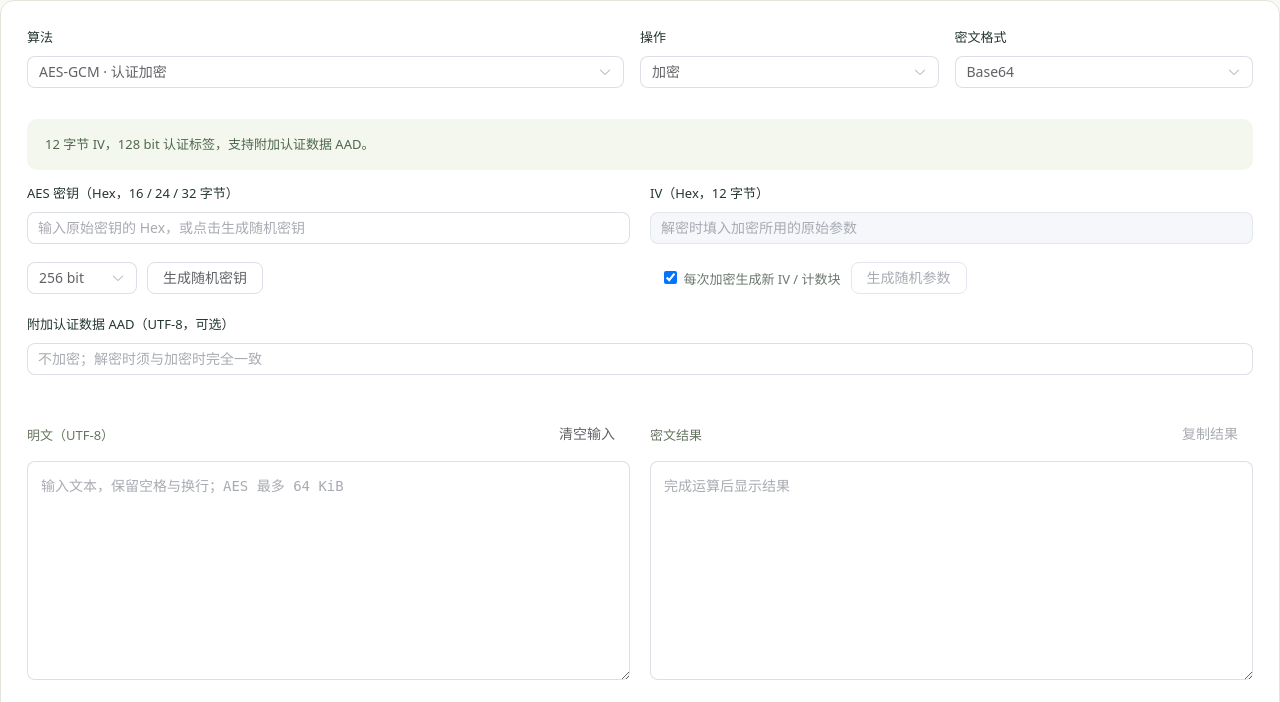
Test: 将密文用于解密保留原有参数，清空移除密钥、输入及结果
Click the button "生成随机密钥" at point(205, 278), box [147, 262, 263, 294]
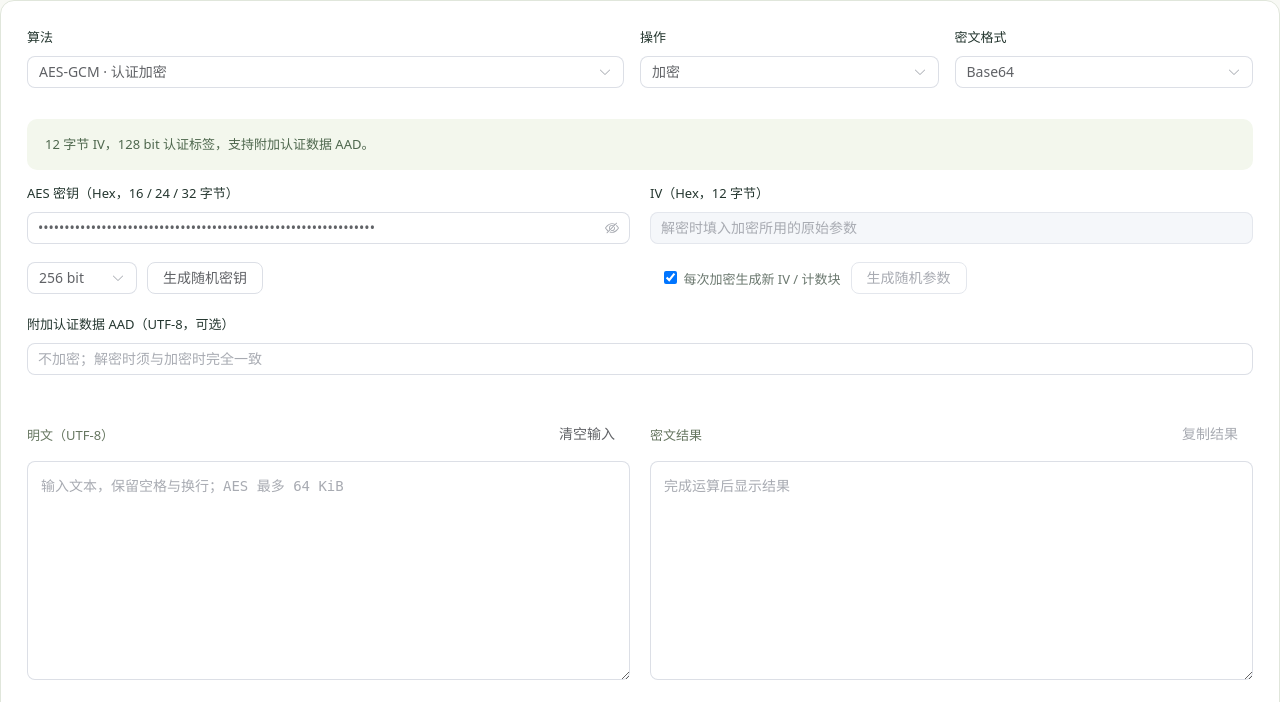
Type "abc" into the text box named "加解密输入" at point(328, 571), box [27, 461, 630, 680]
(page scrolled)
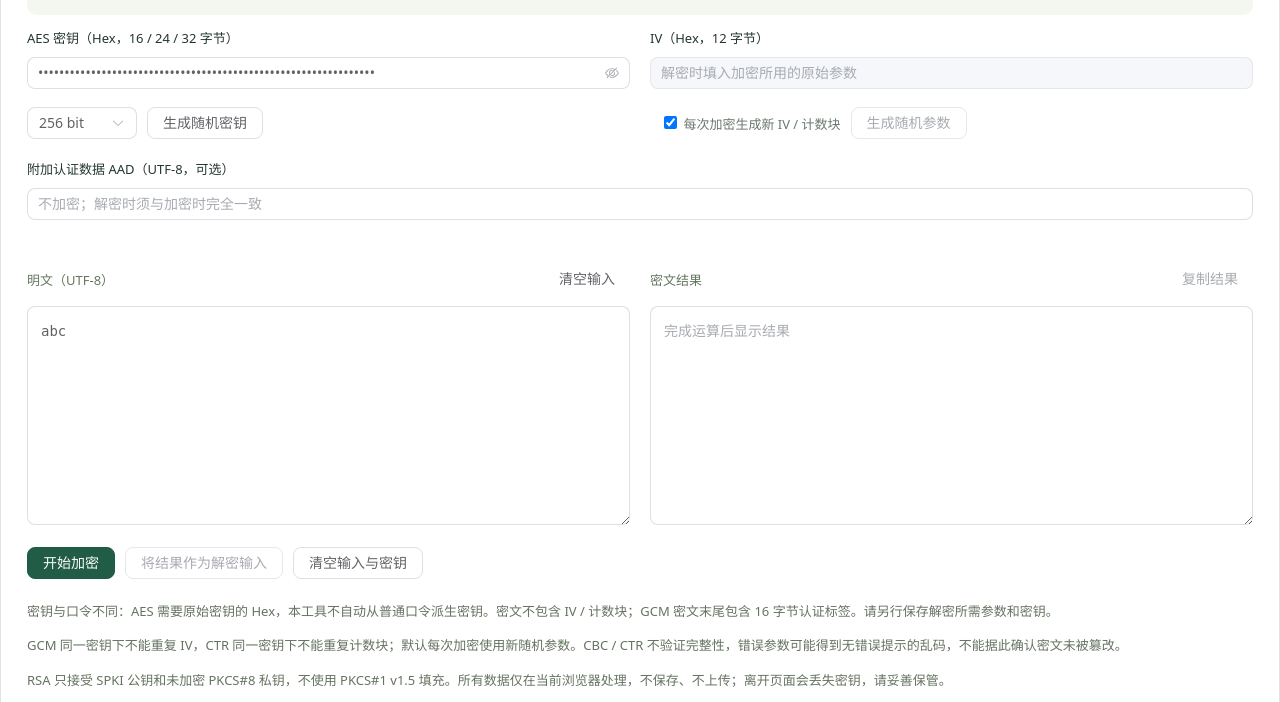
Click the button "开始加密" at point(71, 563), box [27, 547, 115, 579]
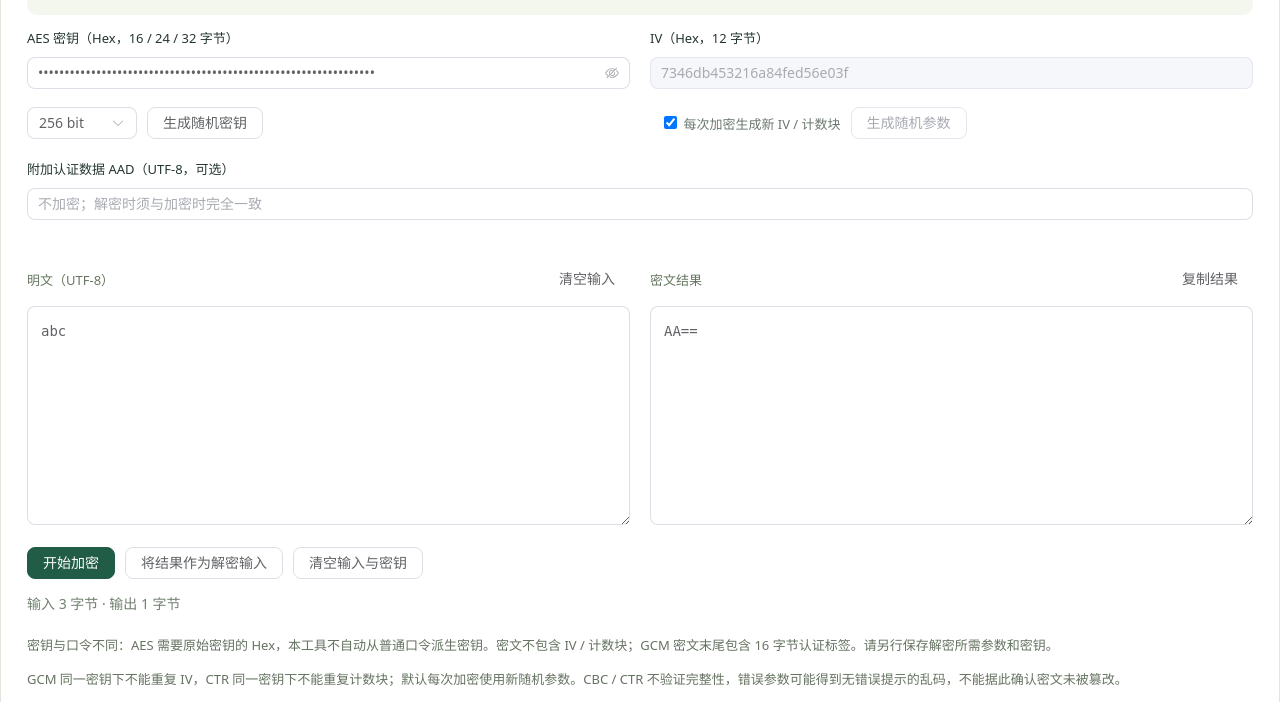
Click the button "将结果作为解密输入" at point(204, 563), box [125, 547, 283, 579]
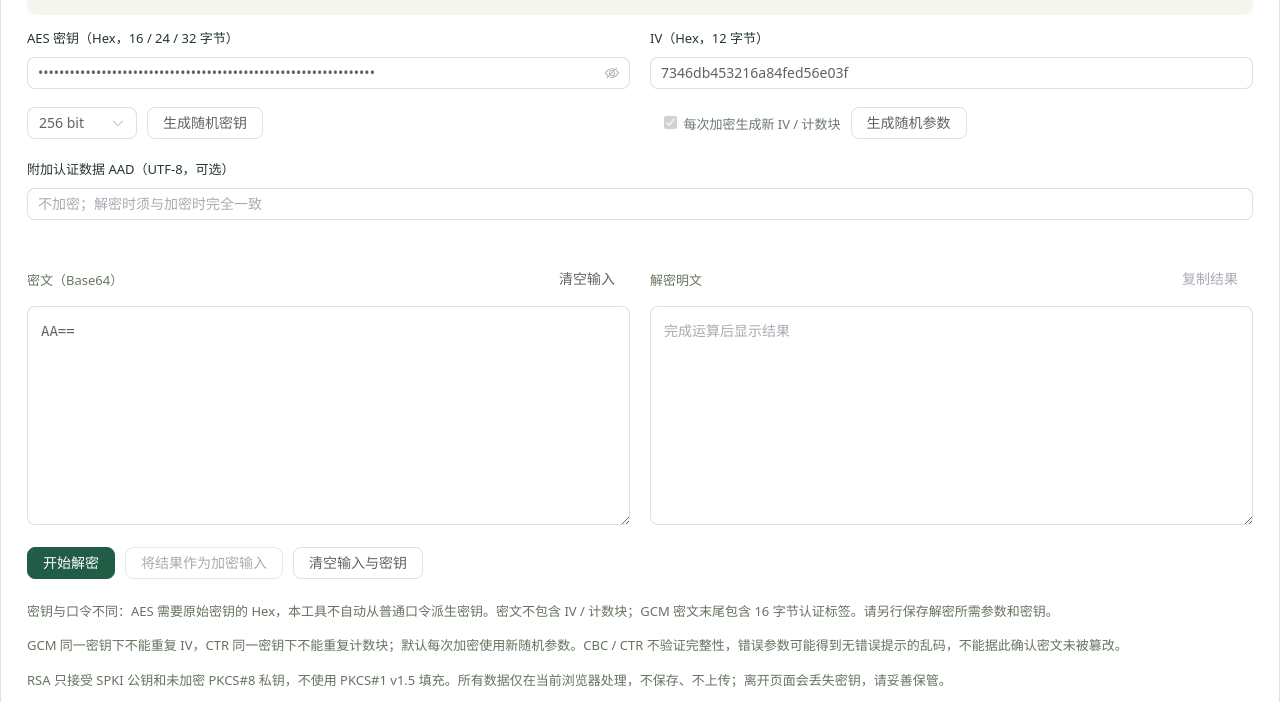
Result: the text box named "加解密输入" holds "AA==" at [27, 306, 630, 525]
Click the button "清空输入与密钥" at point(358, 563), box [293, 547, 423, 579]
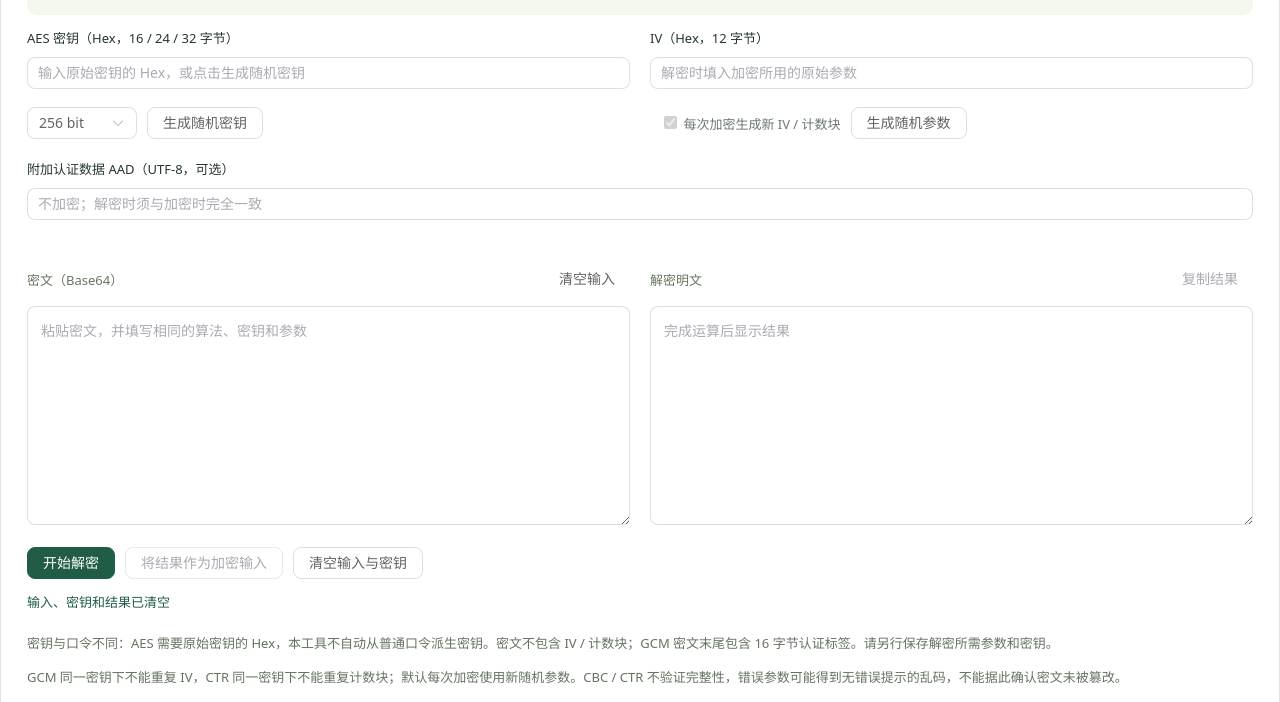
Result: the text box named "加解密结果" is empty at [650, 306, 1253, 525]
Result: the password field named "AES 密钥" is empty at [38, 58, 619, 88]
Result: the text box named "加解密输入" is empty at [27, 306, 630, 525]
